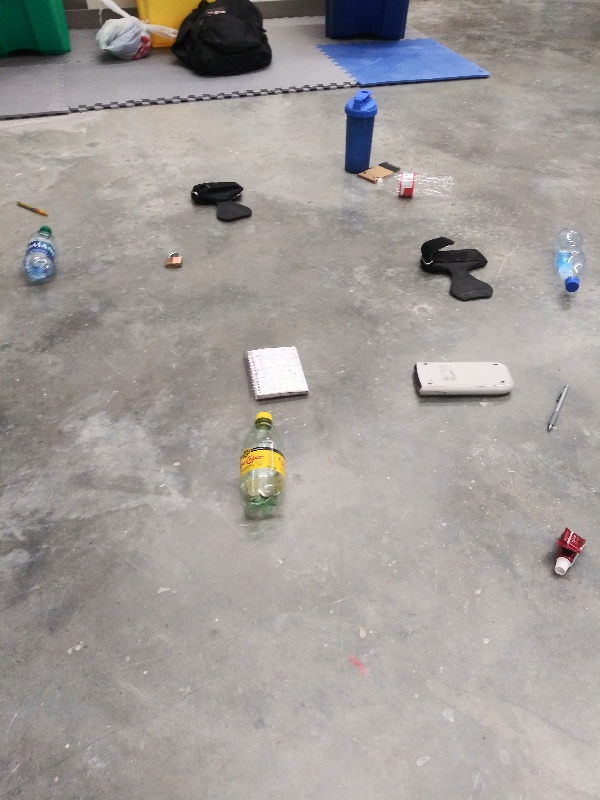bottle: (230, 410, 293, 520), (371, 166, 459, 206), (15, 225, 62, 286), (548, 224, 590, 292)
